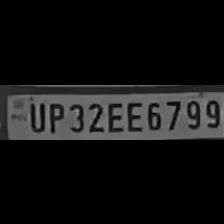2: (84, 98, 104, 132)
3: (66, 98, 86, 132)
6: (144, 98, 162, 130)
7: (163, 97, 181, 131)
9: (182, 96, 202, 128), (202, 96, 222, 128)
E: (105, 98, 123, 132), (124, 97, 142, 130)
P: (46, 99, 64, 133)
U: (26, 99, 44, 131)
